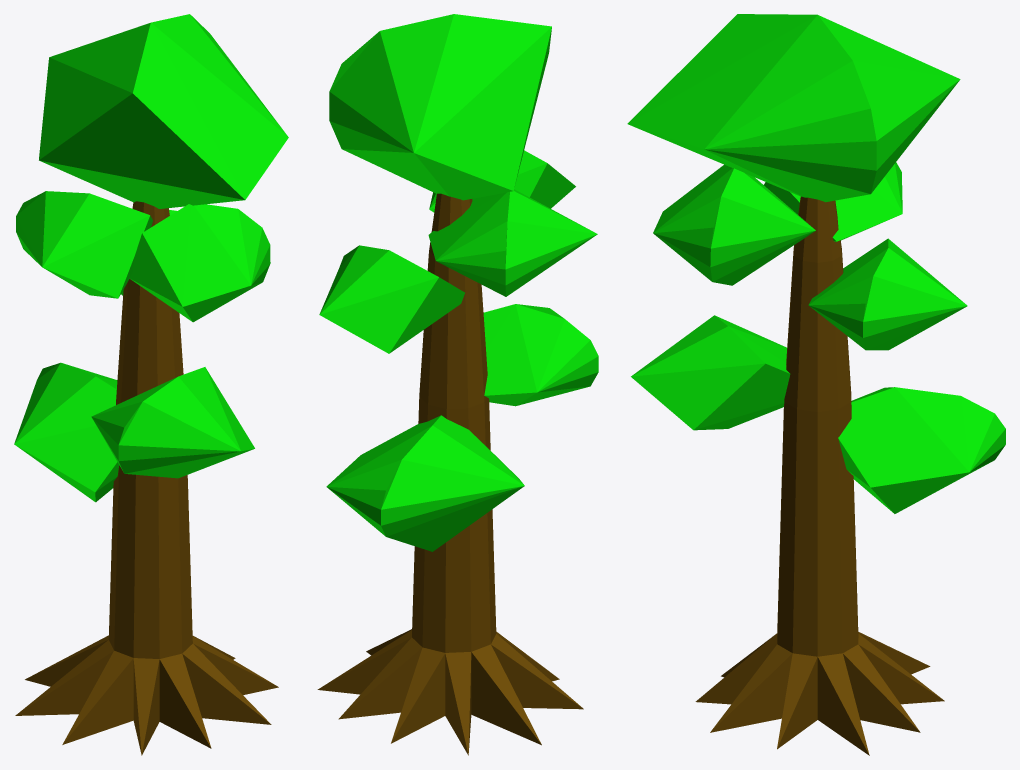
File: wood100.fbx
3 renders of one model, left to right at view 1: azimuth 30°, elevation 25°; view 2: azimuth 150°, elevation 25°; view 3: azimuth 270°, elevation 25°, orthographic.
Parts seen in each view (by area): view 1: pCylinder1, pSphere1, pSphere2, pSphere6, pSphere3, pSphere5; view 2: pCylinder1, pSphere1, pSphere5, pSphere3, pSphere4, pSphere6, pSphere2; view 3: pCylinder1, pSphere1, pSphere5, pSphere6, pSphere2, pSphere4, pSphere3.
Part boxes in pixels (<box>): pCylinder1: <box>15,201,278,755</box>; pSphere1: <box>39,14,288,208</box>; pSphere2: <box>129,204,270,322</box>; pSphere6: <box>91,367,254,478</box>; pSphere3: <box>16,191,152,298</box>; pSphere5: <box>14,362,119,502</box>; pCylinder1: <box>317,193,583,755</box>; pSphere1: <box>329,14,551,200</box>; pSphere5: <box>326,415,524,551</box>; pSphere3: <box>428,189,597,296</box>; pSphere4: <box>319,245,464,353</box>; pSphere6: <box>483,304,598,406</box>; pSphere2: <box>429,150,575,212</box>; pCylinder1: <box>695,196,944,755</box>; pSphere1: <box>627,14,960,202</box>; pSphere5: <box>838,387,1005,513</box>; pSphere6: <box>631,315,790,430</box>; pSphere2: <box>653,164,815,285</box>; pSphere4: <box>808,238,967,350</box>; pSphere3: <box>764,162,902,241</box>.
Bounding box in the file's own units: 323 × 892 × 444.
